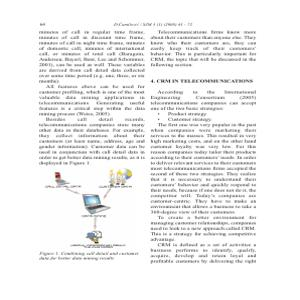image: (39, 169, 145, 250)
text: (149, 29, 260, 267), (33, 30, 147, 166), (35, 252, 143, 264)
